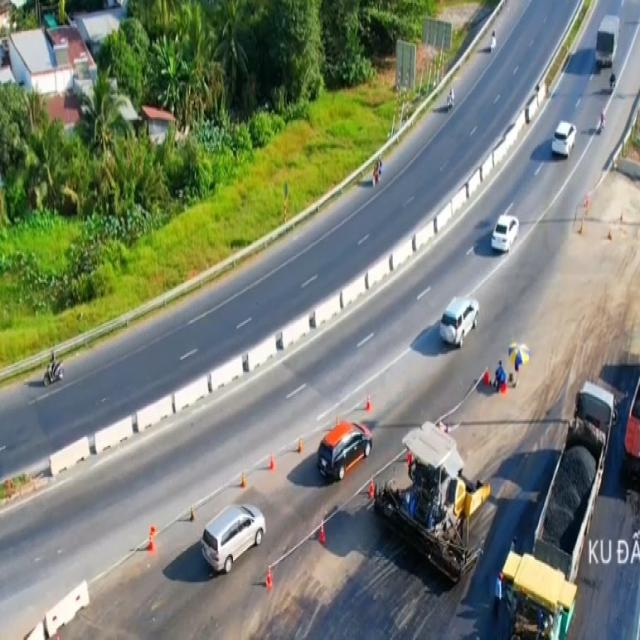car: (202, 499, 266, 570), (318, 415, 374, 484), (439, 291, 485, 346), (491, 212, 519, 255), (551, 121, 577, 164)
motorbike: (41, 350, 63, 384)
truck: (596, 14, 620, 69)
